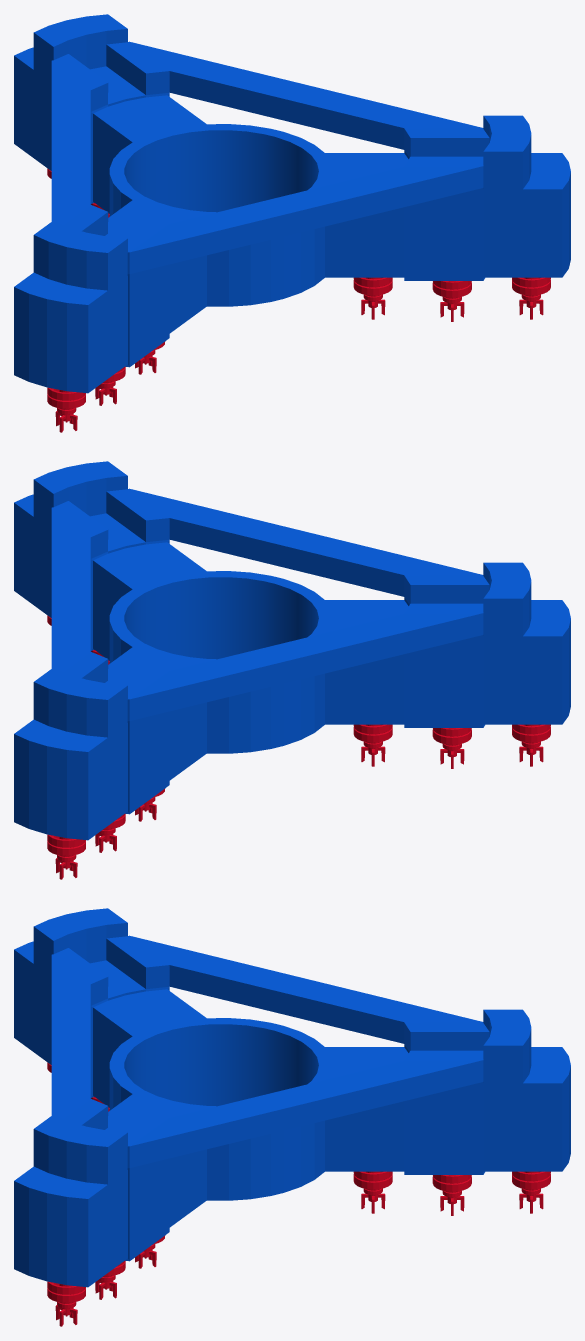
File: HeavyLaser.fbx
3 views of the same model, one above another, from view 1: azimuth 30°, elevation 25°; view 2: azimuth 150°, elevation 25°; view 3: azimuth 270°, elevation 25° (orthographic).
Parts seen in each view (by area): view 1: HeavyTotemLaser; view 2: HeavyTotemLaser; view 3: HeavyTotemLaser.
Part boxes in pixels (bbox=[...]): HeavyTotemLaser: bbox=[14, 14, 570, 432]; HeavyTotemLaser: bbox=[14, 461, 570, 879]; HeavyTotemLaser: bbox=[14, 908, 570, 1326].
Size of the model in its own units: 5201 by 1663 by 4575.
